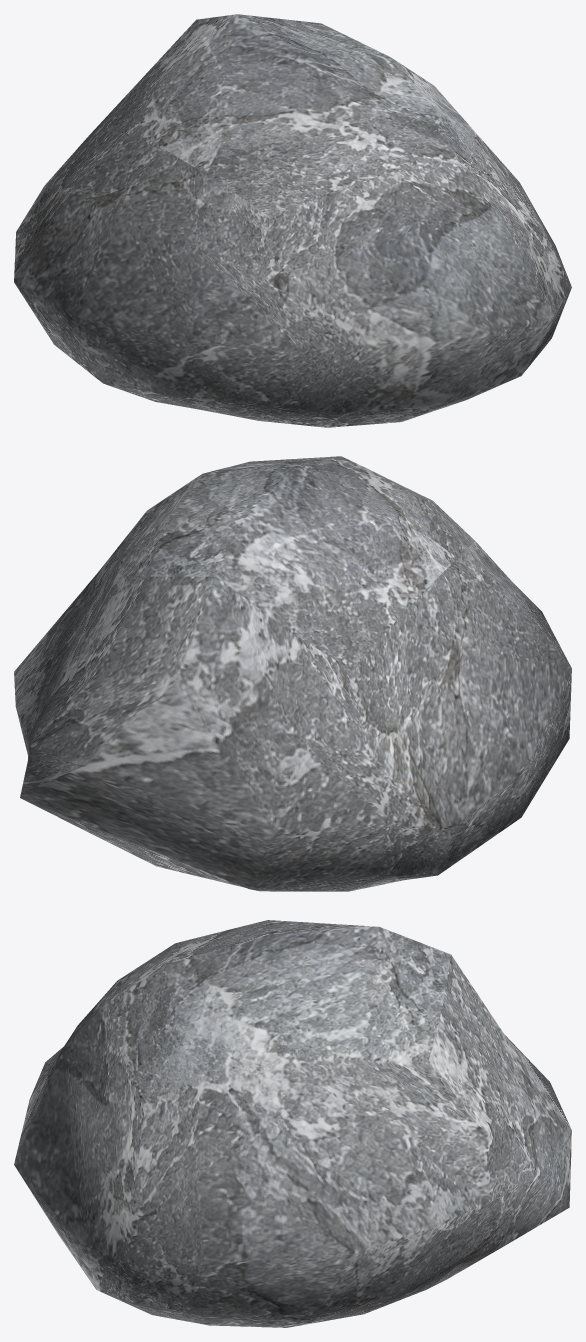
File: GroundRock2.fbx
3 views of the same model, one above another, from view 1: azimuth 30°, elevation 25°; view 2: azimuth 150°, elevation 25°; view 3: azimuth 270°, elevation 25° (orthographic). The views are drawn at different scales.
Parts seen in each view (by area): view 1: Rock2; view 2: Rock2; view 3: Rock2.
Part boxes in pixels (left/top/right/bottom): Rock2: left=14, top=14, right=571, bottom=427; Rock2: left=14, top=456, right=571, bottom=891; Rock2: left=14, top=920, right=571, bottom=1327.
Size of the model in its own units: 323 by 235 by 353.
Materials: 1 (1 with a texture image).
